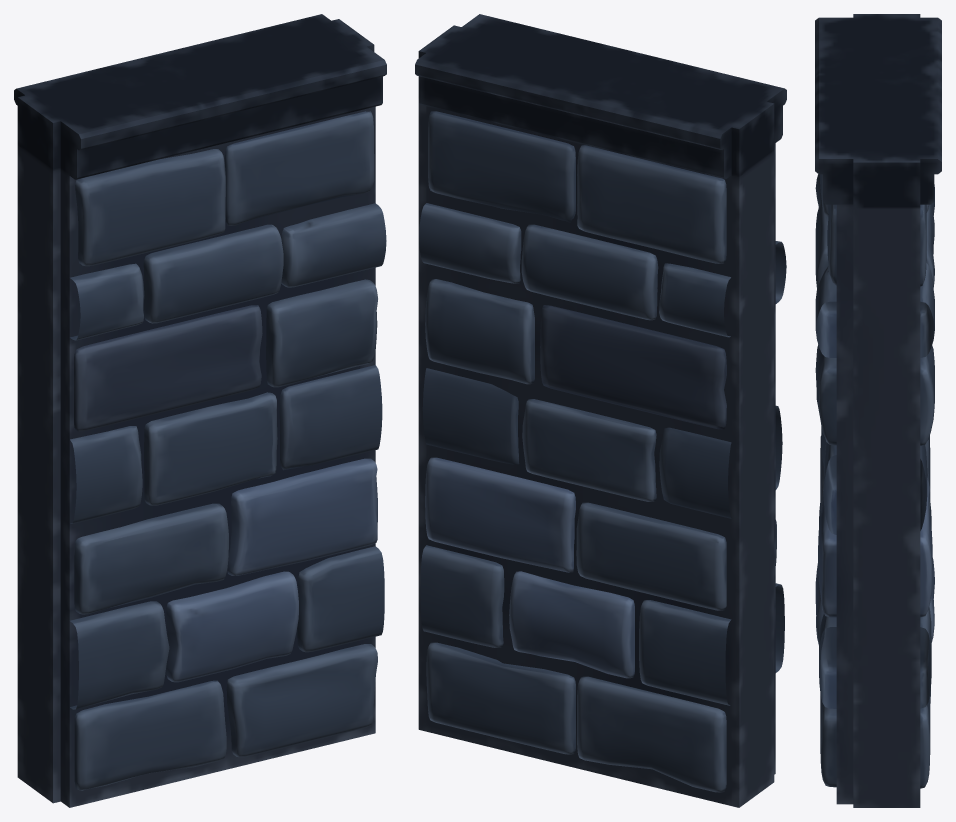
The model's file is Wall1-4.fbx.
The picture shows the model from 3 angles, left to right: view 1: azimuth 30°, elevation 25°; view 2: azimuth 150°, elevation 25°; view 3: azimuth 270°, elevation 25°; orthographic projection. The views are drawn at different scales.
Parts seen in each view (by area): view 1: WallTileB1; view 2: WallTileB1; view 3: WallTileB1.
Boxes of the visible parts, x1,y1,x2,y2 form: WallTileB1: (14,14,386,807); WallTileB1: (415,14,786,807); WallTileB1: (815,14,941,807).
Bounding box in the file's own units: 2.1 × 4.25 × 0.7578.
